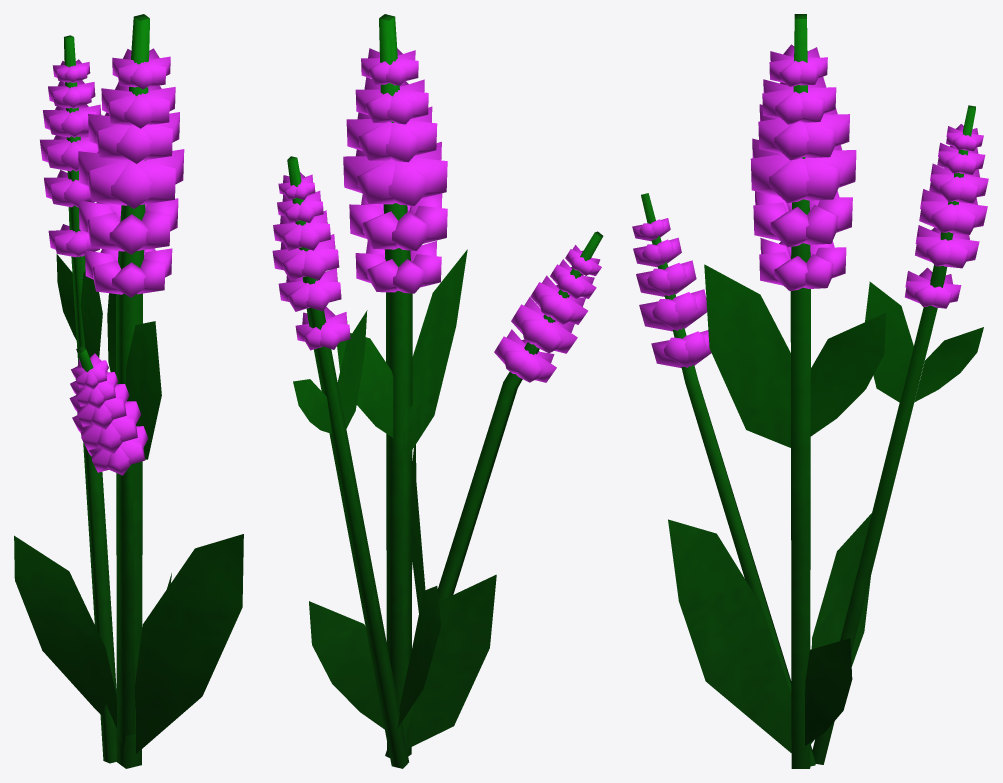
The model's file is lavender.fbx.
3 views of the same model, side by side, from view 1: azimuth 30°, elevation 25°; view 2: azimuth 150°, elevation 25°; view 3: azimuth 270°, elevation 25° (orthographic). The views are drawn at different scales.
Parts seen in each view (by area): view 1: lavender; view 2: lavender; view 3: lavender.
Part boxes in pixels (x1,y1,x2,y2): lavender: (14,14,243,768); lavender: (272,14,603,768); lavender: (632,14,988,768).
Bounding box in the file's own units: 0.1002 × 0.3635 × 0.1553.
